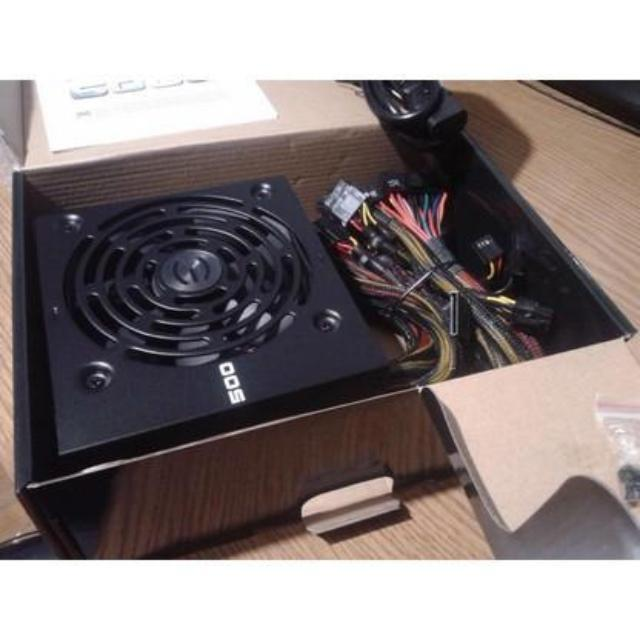PSU: (16, 182, 384, 464)
